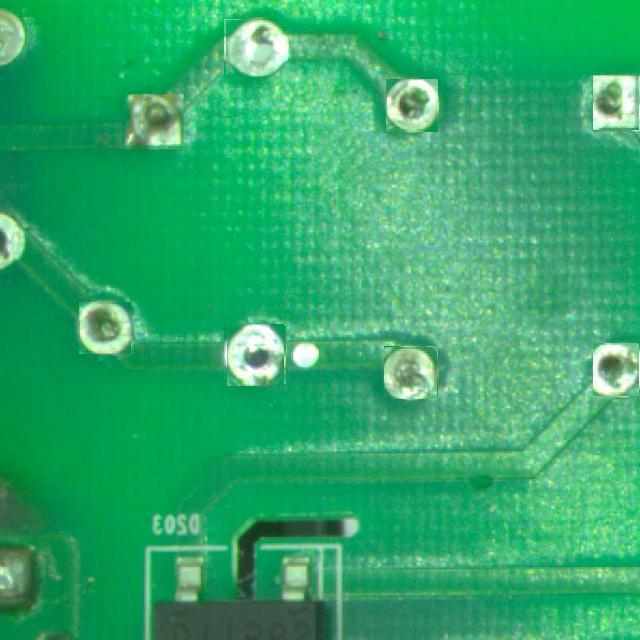oppostie_direction: (226, 324, 284, 386), (225, 19, 288, 76), (125, 95, 181, 147), (79, 302, 131, 354), (385, 346, 436, 399), (386, 80, 437, 131), (594, 76, 637, 130), (594, 344, 638, 395)
